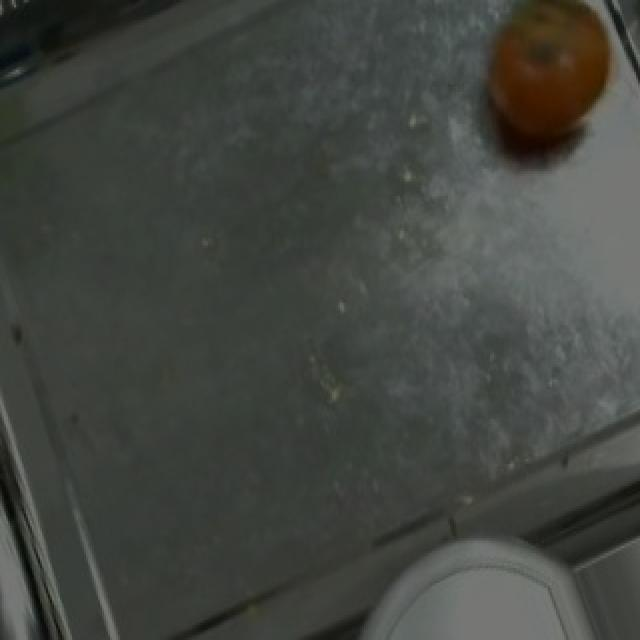Fruit: (460, 0, 638, 176), (368, 550, 588, 640)
